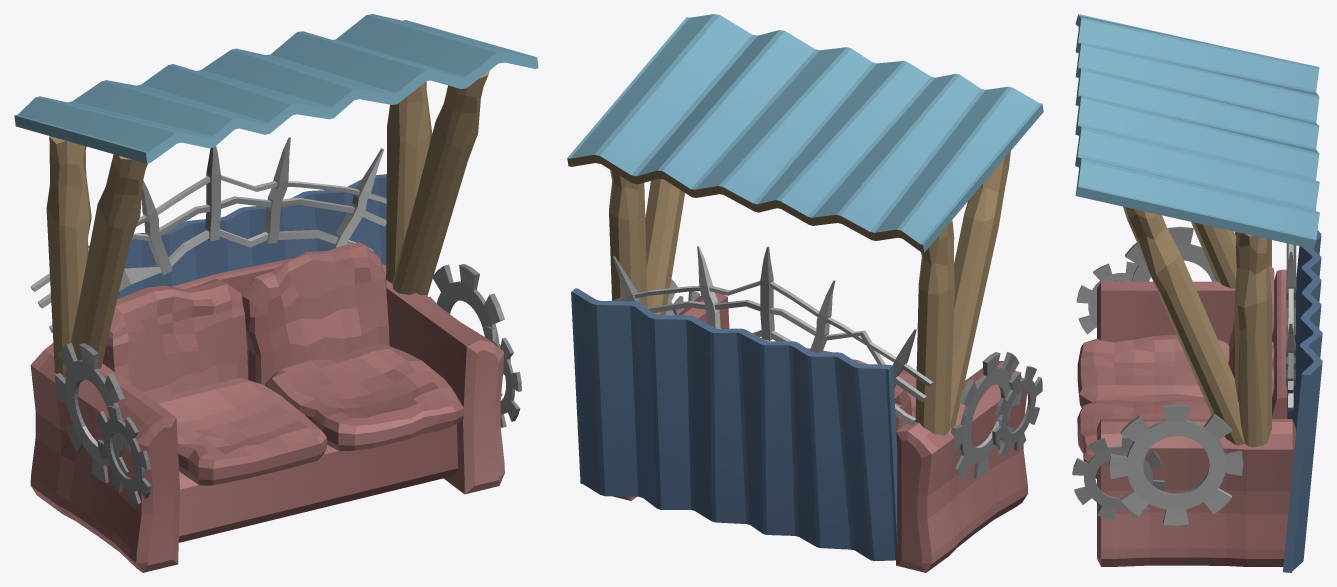
The model's file is porch_sofa.glb.
The picture shows the model from 3 angles, left to right: view 1: azimuth 30°, elevation 25°; view 2: azimuth 150°, elevation 25°; view 3: azimuth 270°, elevation 25°; orthographic projection. The views are drawn at different scales.
Parts seen in each view (by area): view 1: porch_sofa, roof; view 2: roof, porch_sofa; view 3: roof, porch_sofa.
Boxes of the visible parts, x1,y1,x2,y2 form: porch_sofa: [30, 137, 504, 572]; roof: [14, 14, 538, 504]; roof: [567, 14, 1043, 560]; porch_sofa: [611, 246, 1028, 572]; roof: [1072, 14, 1322, 572]; porch_sofa: [1077, 243, 1296, 566].
Bounding box in the file's own units: 1.79 × 1.93 × 1.09.
1 material, 1 textured.
